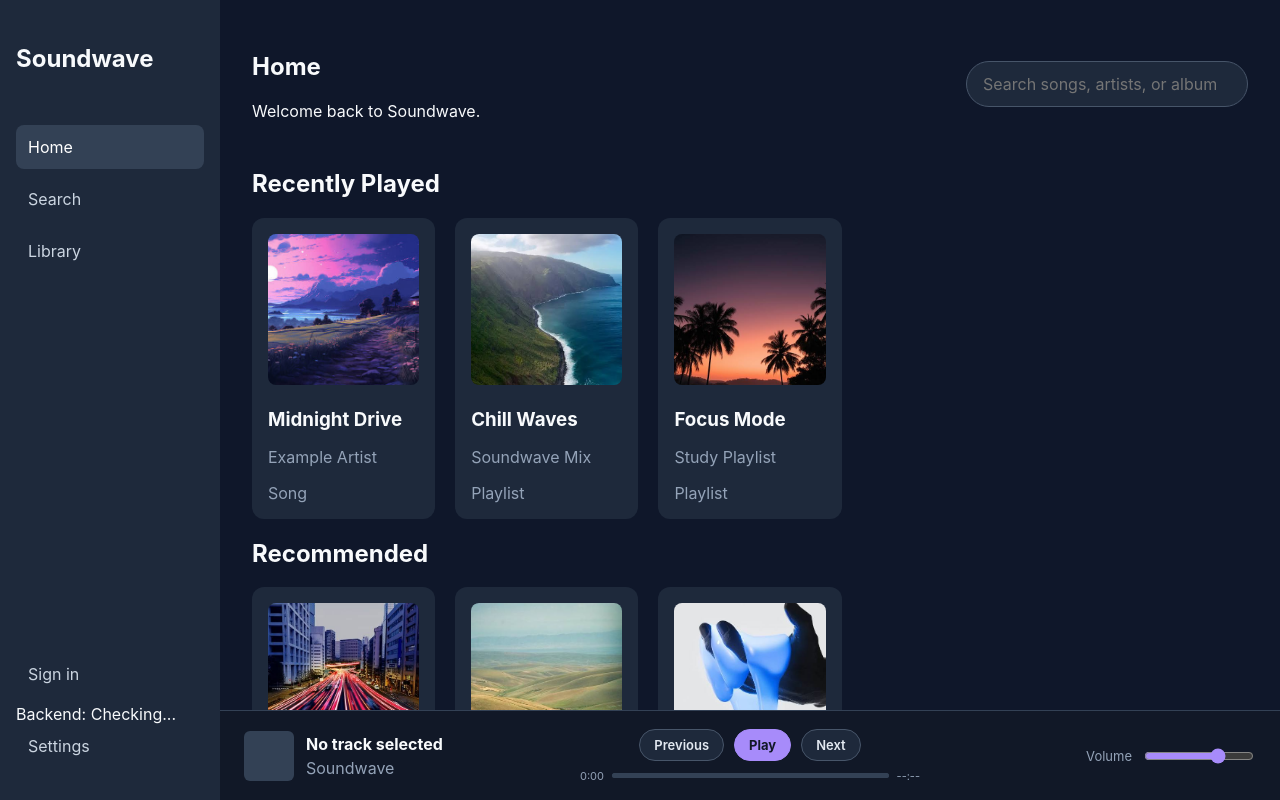
Scenario: Sprint 4 Task 3 - authentication state and UI logout › starts signed out and signs in only after the API returns a valid user
This screenshot has width=1280, height=800.
Expected: the text "Signed in as" is not shown
Click the button "Sign in" at coordinates (110, 674), box x1=16 y1=652 x2=204 y2=696
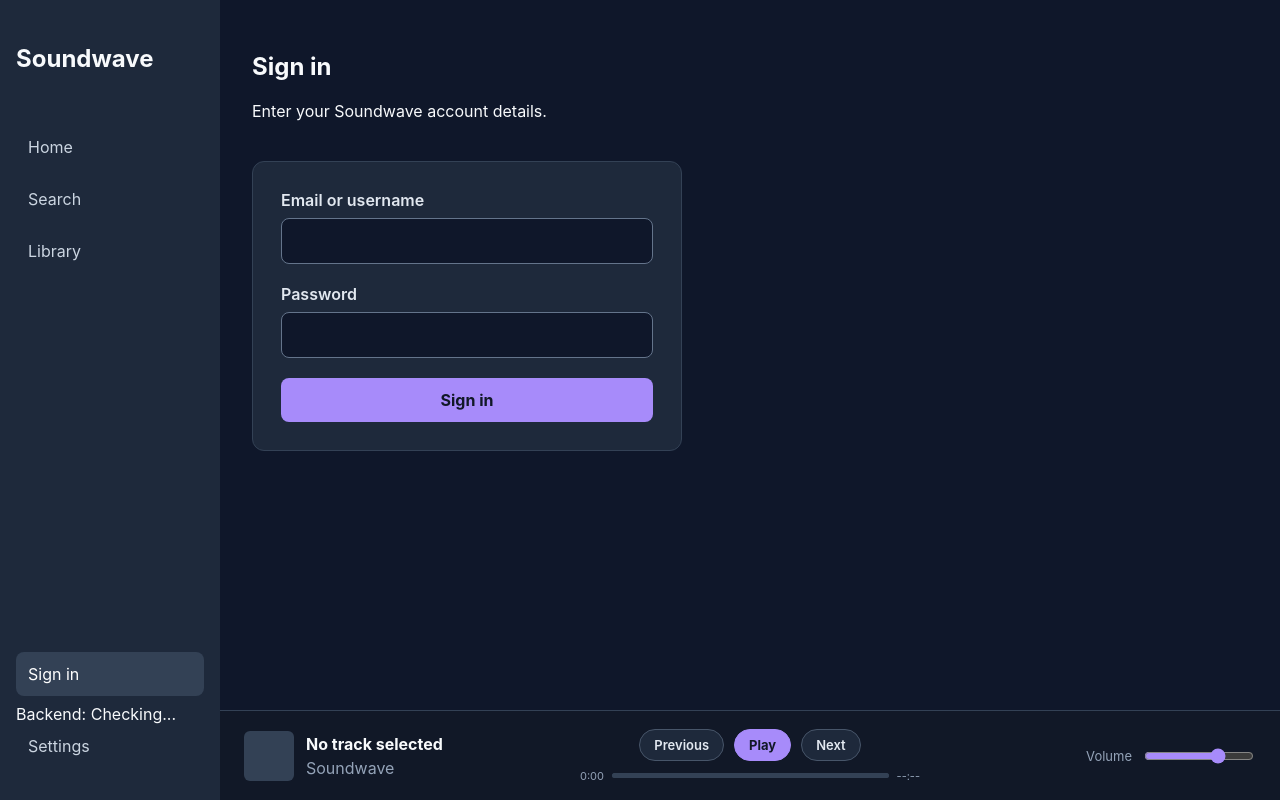
Type "listener" into the field labelled "Email or username" at coordinates (467, 241), box x1=281 y1=218 x2=653 y2=264
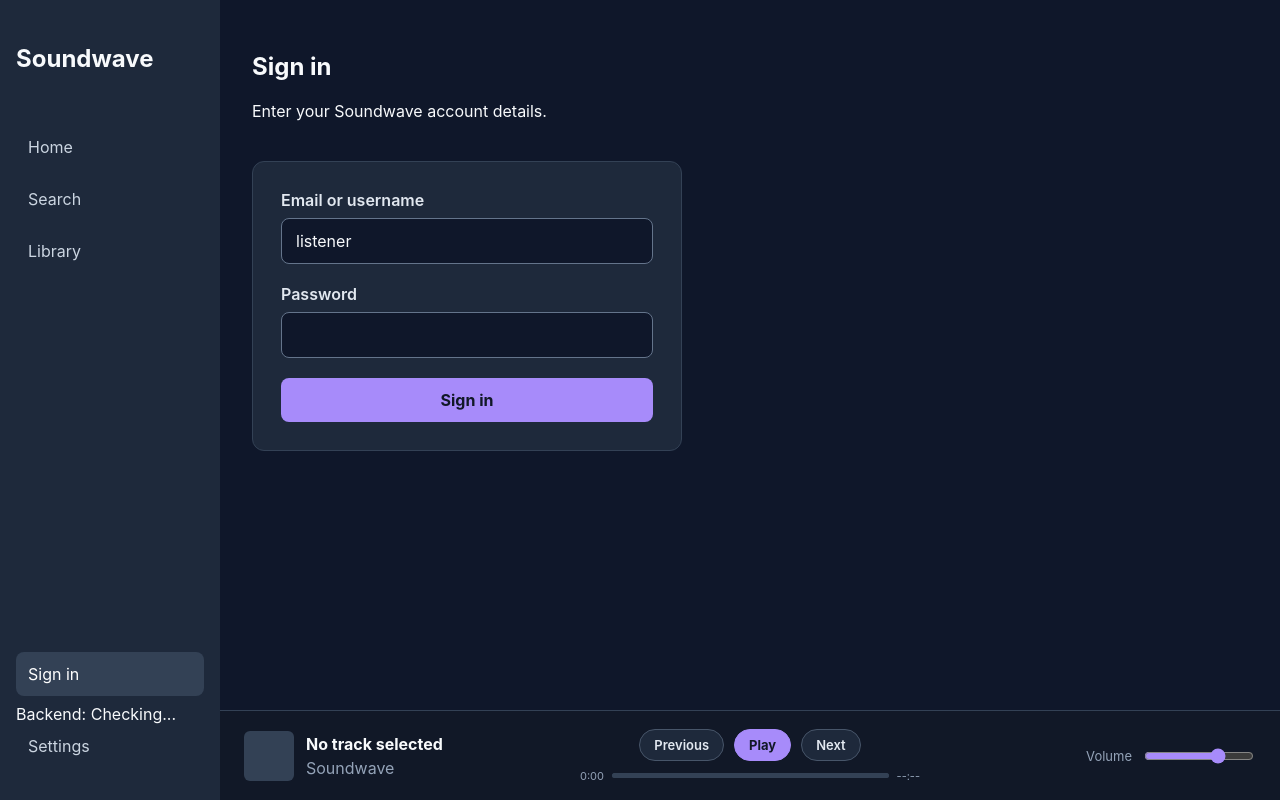
Type "synthetic-only" into the password field labelled "Password" at coordinates (467, 335), box x1=281 y1=312 x2=653 y2=358
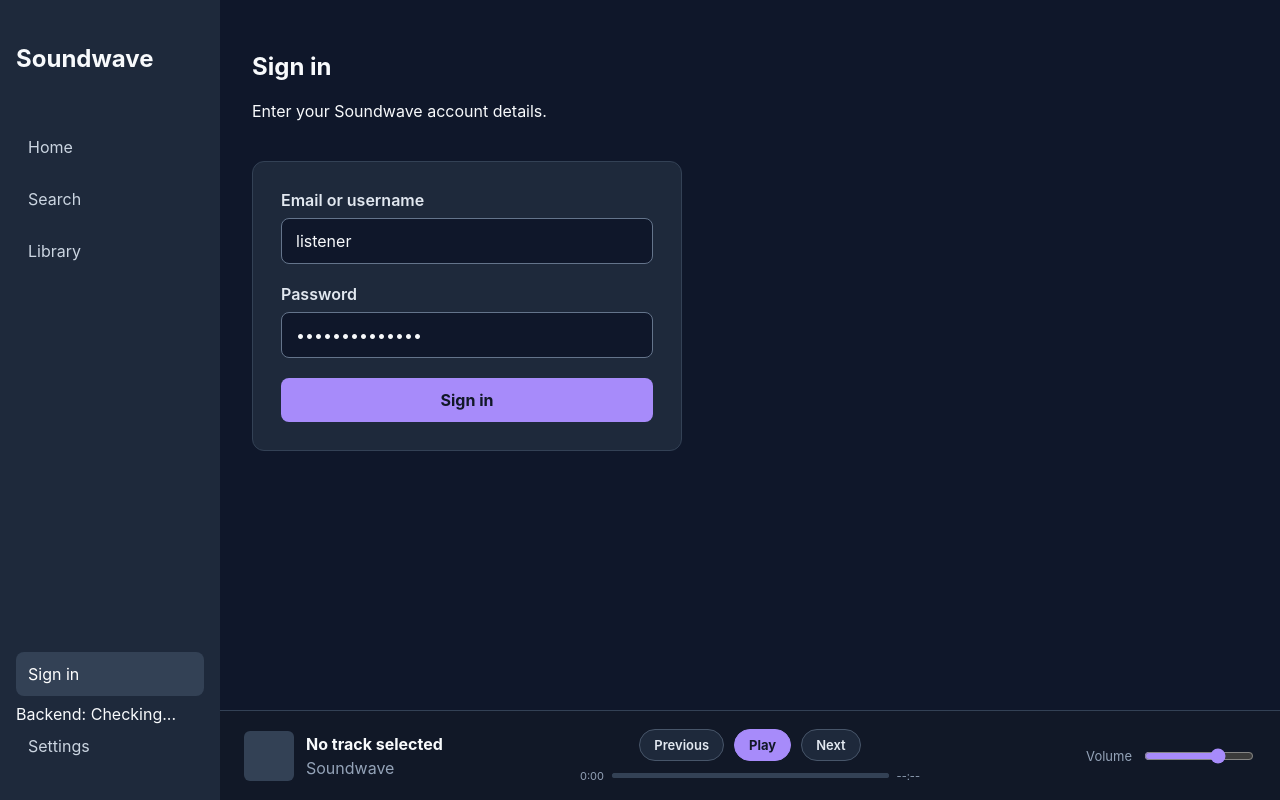
Click the button "Sign in" below "Password" at coordinates (467, 400), box x1=281 y1=378 x2=653 y2=422
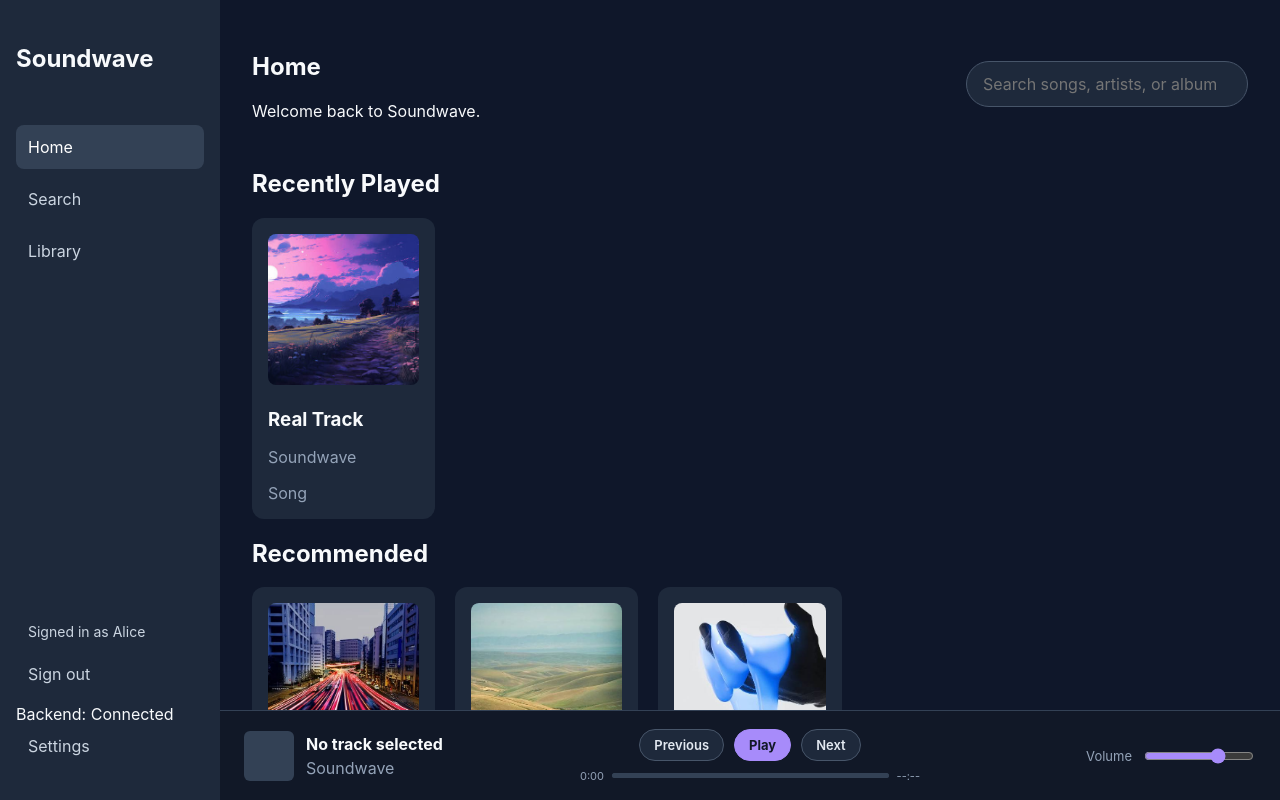
Result: the text "Signed in as Alice" is shown at x1=28 y1=623 x2=145 y2=640
Result: the button "Sign out" is shown at x1=16 y1=652 x2=204 y2=696
Result: the button "Sign in" is gone
